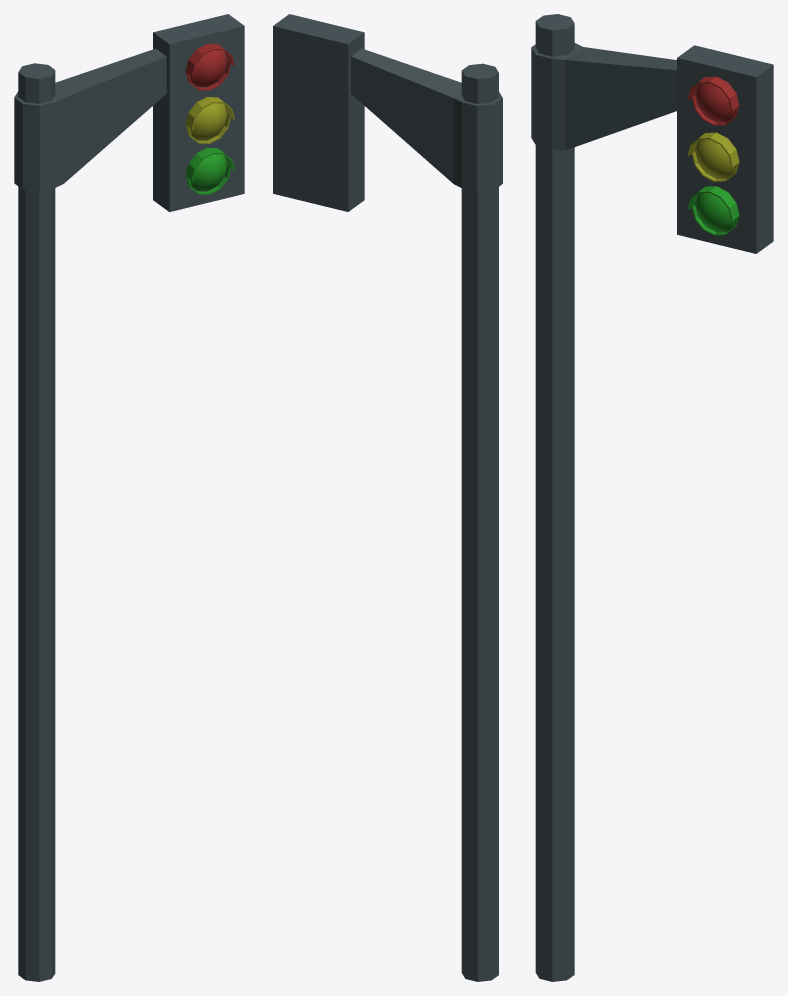
File: TrafficLight.fbx
The picture shows the model from 3 angles, left to right: view 1: azimuth 30°, elevation 25°; view 2: azimuth 150°, elevation 25°; view 3: azimuth 330°, elevation 25°; orthographic projection. The views are drawn at different scales.
Parts seen in each view (by area): view 1: TrafficLight; view 2: TrafficLight; view 3: TrafficLight.
Part boxes in pixels (left/top/right/bottom): TrafficLight: left=14, top=14, right=244, bottom=981; TrafficLight: left=273, top=14, right=502, bottom=981; TrafficLight: left=531, top=14, right=773, bottom=981.
Size of the model in its own units: 180 by 714 by 36.33.
